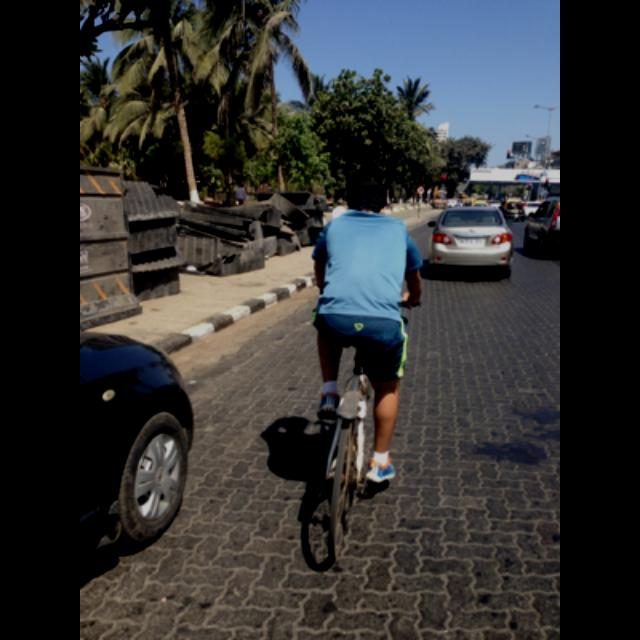Without Helmet: (342, 168, 392, 218)
